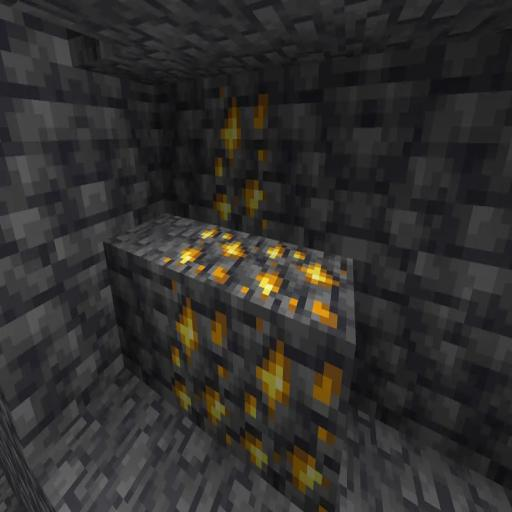gold ore: (158, 66, 348, 512)
